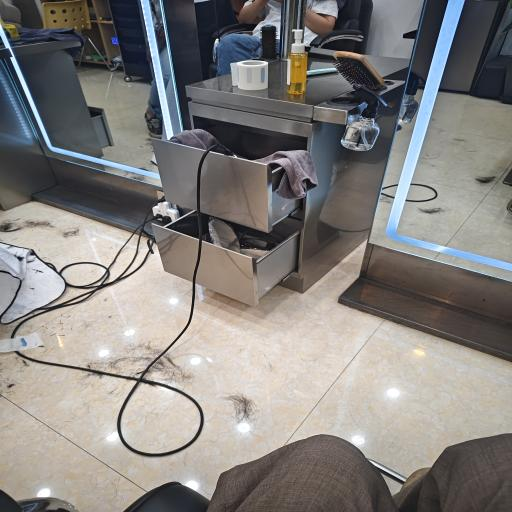bottle: (131, 49, 436, 148), (96, 45, 367, 138)
